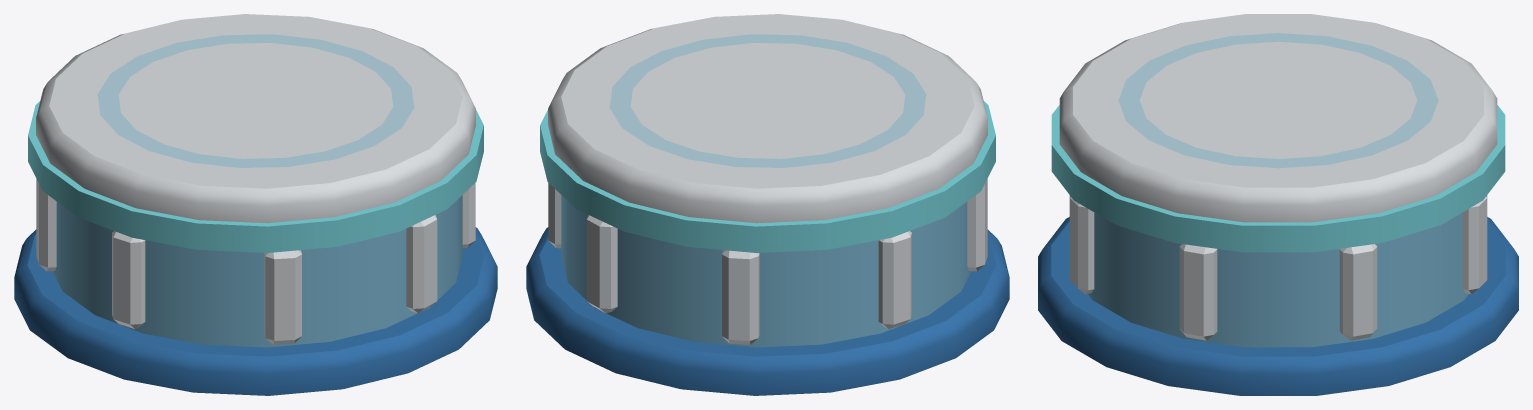
The model's file is ice-podium.glb.
3 renders of one model, left to right at view 1: azimuth 30°, elevation 25°; view 2: azimuth 150°, elevation 25°; view 3: azimuth 270°, elevation 25°, orthographic.
Visible parts, largest first — view 1: ice-podium; view 2: ice-podium; view 3: ice-podium.
Part boxes in pixels (bbox=[...]): ice-podium: bbox=[14, 14, 497, 395]; ice-podium: bbox=[526, 14, 1009, 395]; ice-podium: bbox=[1038, 14, 1518, 395].
Size of the model in its own units: 0.9008 by 0.401 by 0.9008.
